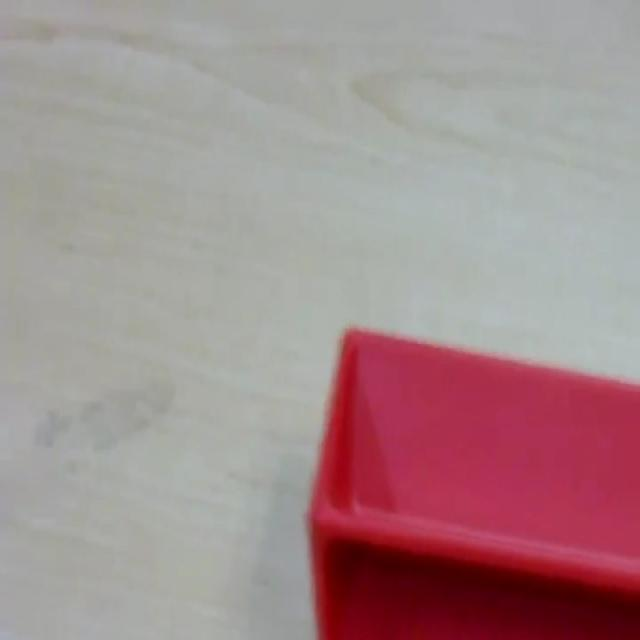red_block: (307, 323, 638, 637)
